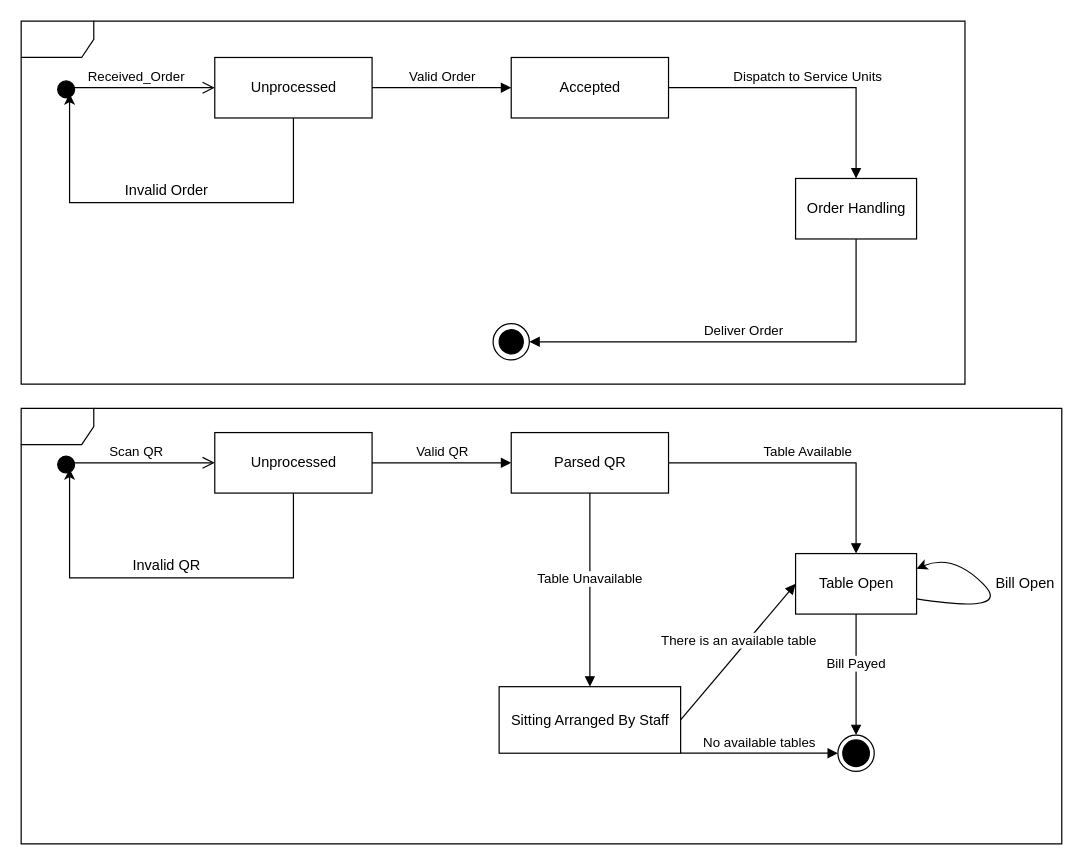
Some shapes in this 1083 by 865 pixel diagram are drawn without their labels. Each missing label, with the box of its shape:
Order: (20, 20, 965, 384)
Table: (20, 407, 1062, 844)
